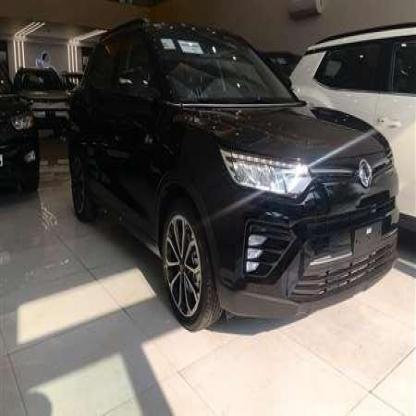Car: (72, 21, 406, 331), (285, 18, 416, 238), (0, 51, 51, 197), (16, 53, 81, 140)
